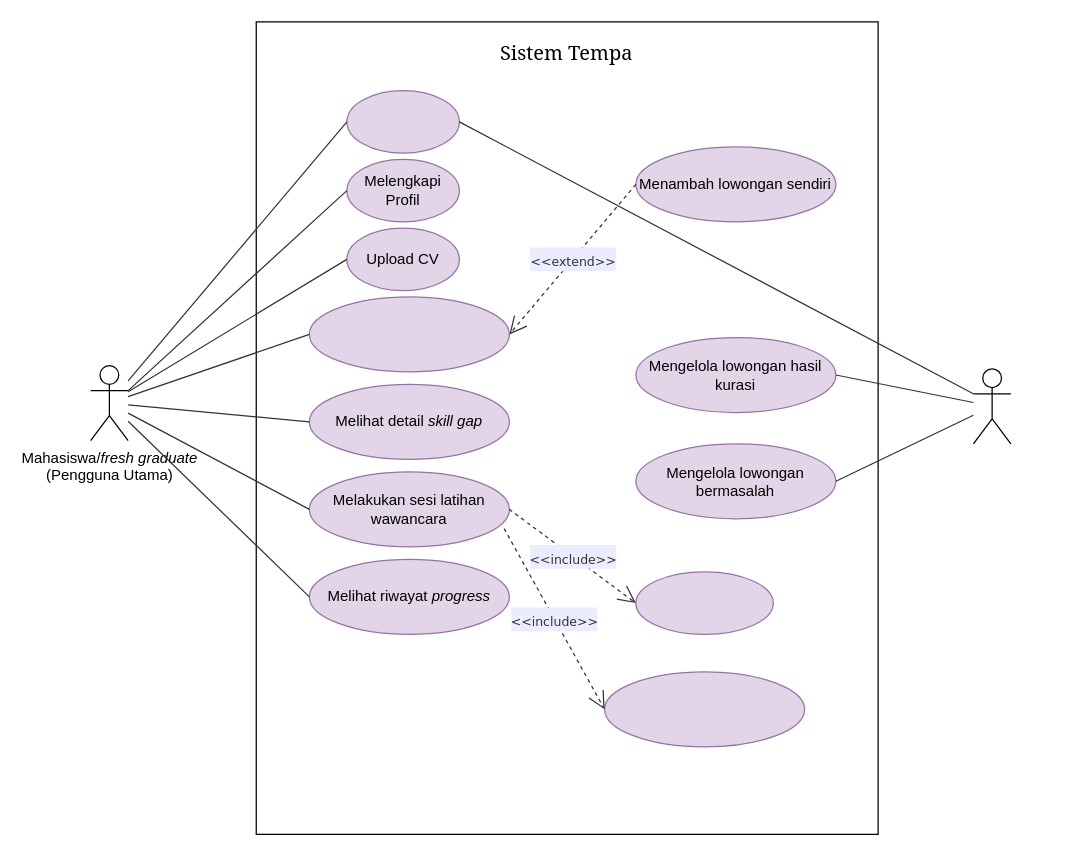
This 1088x856 diagram has some shape labels left out. The shapes that lost their labels are listed below. From the top down, each one's centre as x and y in pixels, then its label:
At (x=402, y=121): "Daftar/login".
At (x=408, y=334): "Melihat daftar lowongan yang cocok".
At (x=991, y=406): "Admin (Pengguna Sekunder)".
At (x=704, y=602): "Cek mikrofon".
At (x=704, y=709): "Melihat report card".
